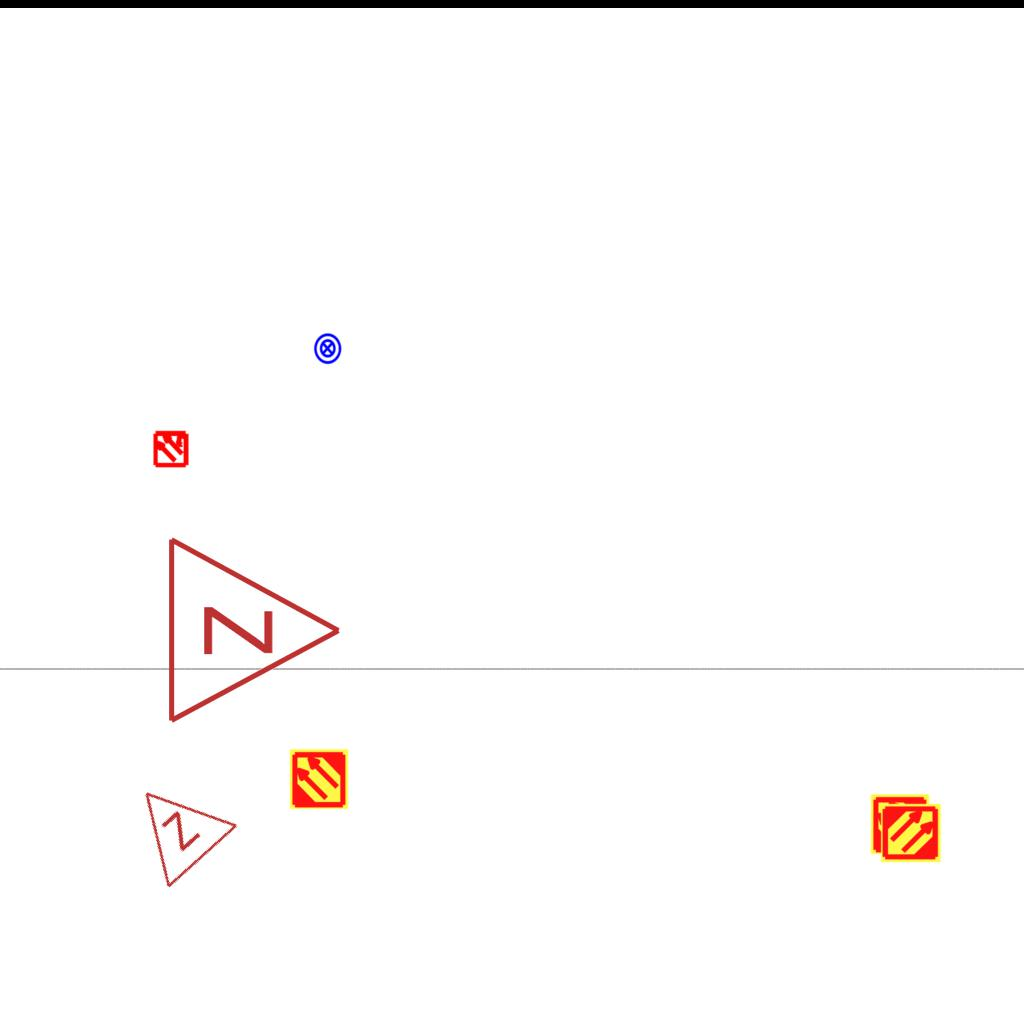ASR_Ansaugrauchmelder: (869, 793, 931, 855), (288, 748, 350, 810), (880, 802, 942, 864)
OT_Multisensormelder_(Kombination_RMO_WMD): (143, 420, 199, 476)
Taster_beleuchtet: (311, 332, 344, 365)
Zimmersignalleuchte: (154, 530, 354, 726), (104, 756, 244, 896)
